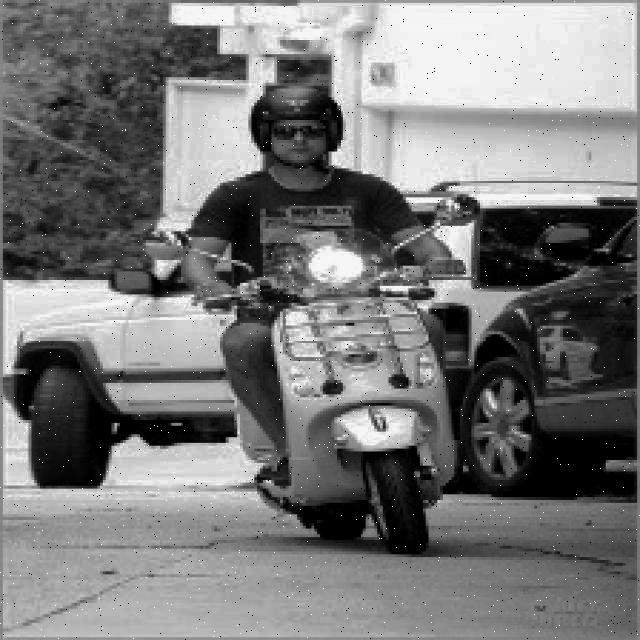Bike: (237, 243, 479, 552)
